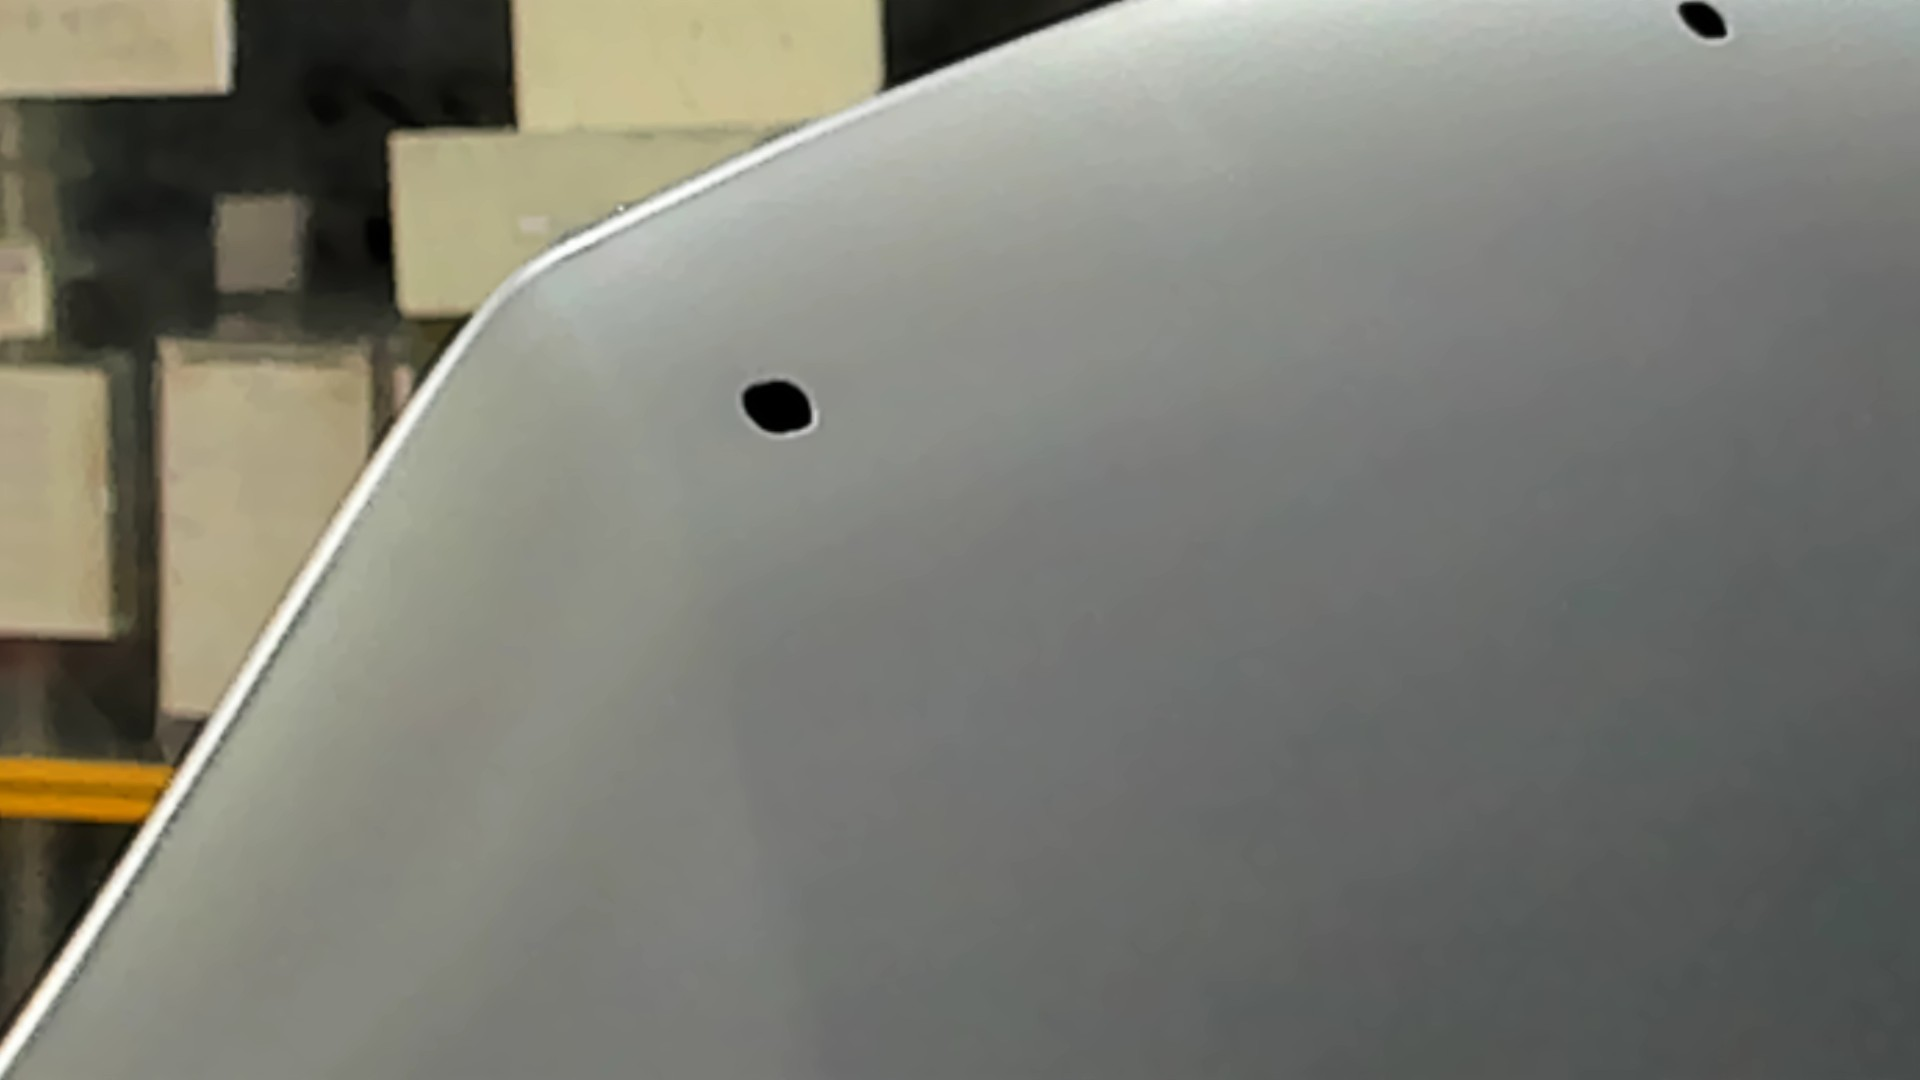amorfo: (729, 369, 822, 442), (1665, 1, 1738, 46)
